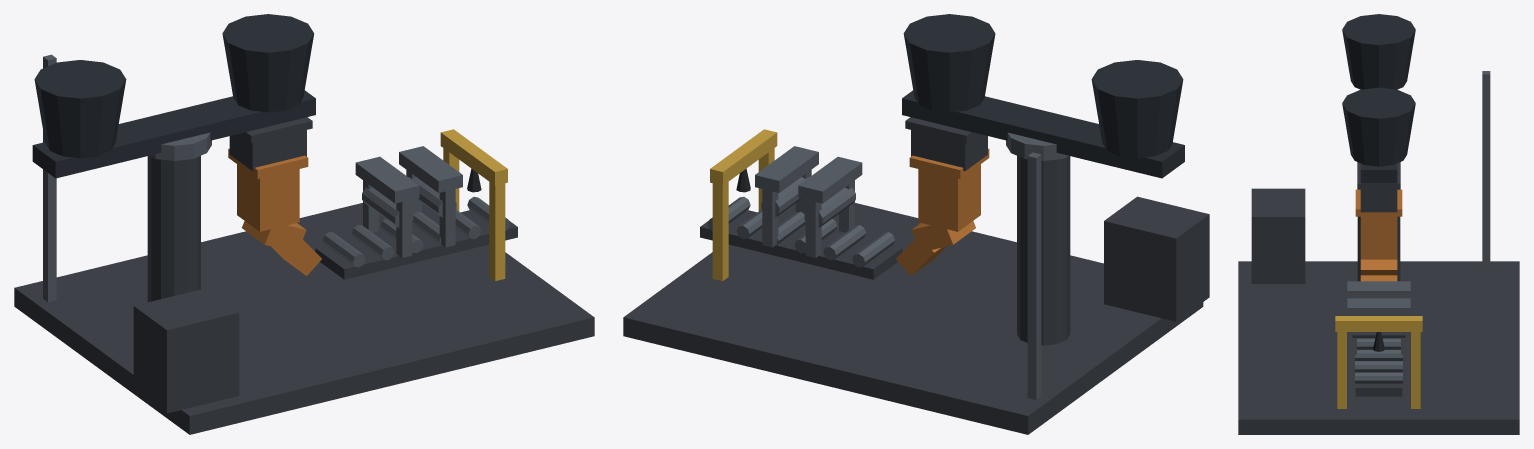
Rendered from ccm_hero.glb.
3 views of the same model, side by side, from view 1: azimuth 30°, elevation 25°; view 2: azimuth 150°, elevation 25°; view 3: azimuth 270°, elevation 25° (orthographic). The views are drawn at different scales.
Parts seen in each view (by area): view 1: ccm_static_steel_dark, turret_load, ccm_static_steel_light, mold_unit, ccm_static_hazard_yellow, ccm_static_mold_copper; view 2: ccm_static_steel_dark, turret_load, ccm_static_steel_light, mold_unit, ccm_static_hazard_yellow, ccm_static_mold_copper; view 3: ccm_static_steel_dark, turret_load, ccm_static_steel_light, ccm_static_hazard_yellow, mold_unit, ccm_static_mold_copper.
Part boxes in pixels (bbox=[...]): ccm_static_steel_dark: bbox=[14, 117, 594, 434]; turret_load: bbox=[32, 14, 315, 178]; ccm_static_steel_light: bbox=[43, 54, 510, 302]; mold_unit: bbox=[228, 148, 308, 231]; ccm_static_hazard_yellow: bbox=[440, 129, 507, 281]; ccm_static_mold_copper: bbox=[242, 221, 321, 275]; ccm_static_steel_dark: bbox=[623, 117, 1209, 434]; turret_load: bbox=[902, 14, 1184, 178]; ccm_static_steel_light: bbox=[707, 132, 1068, 399]; mold_unit: bbox=[909, 148, 989, 231]; ccm_static_hazard_yellow: bbox=[710, 129, 777, 281]; ccm_static_mold_copper: bbox=[896, 221, 975, 275]; ccm_static_steel_dark: bbox=[1238, 162, 1519, 434]; turret_load: bbox=[1342, 14, 1415, 183]; ccm_static_steel_light: bbox=[1347, 71, 1490, 383]; ccm_static_hazard_yellow: bbox=[1335, 316, 1422, 408]; mold_unit: bbox=[1355, 189, 1402, 259]; ccm_static_mold_copper: bbox=[1360, 259, 1397, 281].
Size of the model in its own units: 6.45 by 3.92 by 4.2.
